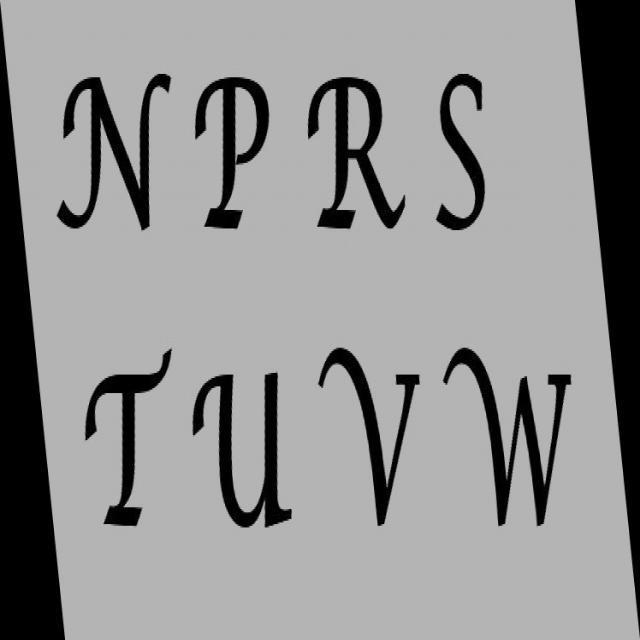N: (49, 68, 172, 238)
P: (184, 66, 274, 242)
R: (293, 70, 422, 246)
S: (431, 70, 506, 244)
T: (76, 344, 182, 528), (191, 360, 300, 532)
V: (319, 340, 420, 528)
W: (441, 339, 576, 539)
